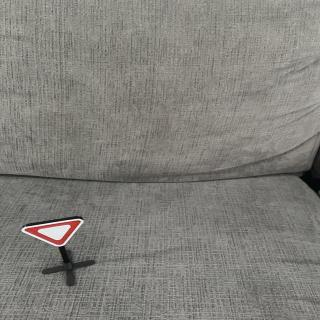sign_yield: (20, 217, 91, 250)
